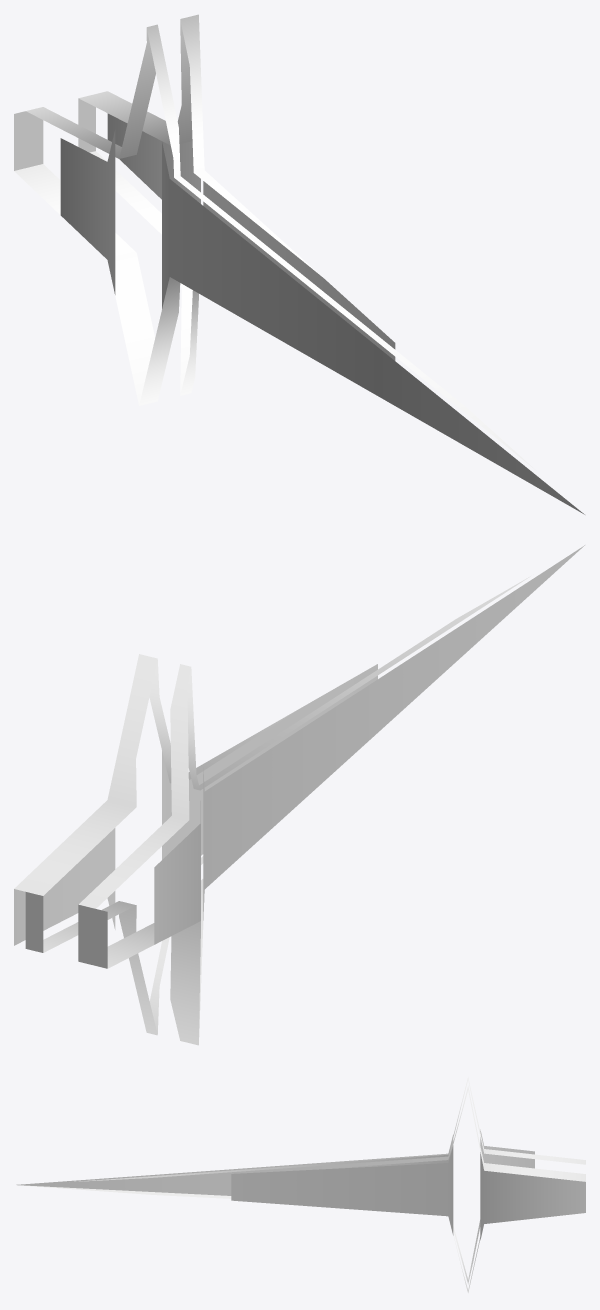
File: SHandWeapon_R.FBX
3 views of the same model, one above another, from view 1: azimuth 30°, elevation 25°; view 2: azimuth 150°, elevation 25°; view 3: azimuth 270°, elevation 25° (orthographic). The views are drawn at different scales.
Parts seen in each view (by area): view 1: RWeapon; view 2: RWeapon; view 3: RWeapon.
Part boxes in pixels (left/top/right/bottom): RWeapon: left=14, top=14, right=584, bottom=514; RWeapon: left=14, top=545, right=584, bottom=1045; RWeapon: left=16, top=1077, right=585, bottom=1292.
Bounding box in the file's own units: 2.35 × 9.04 × 22.82.
Materials: 1 (1 with a texture image).
